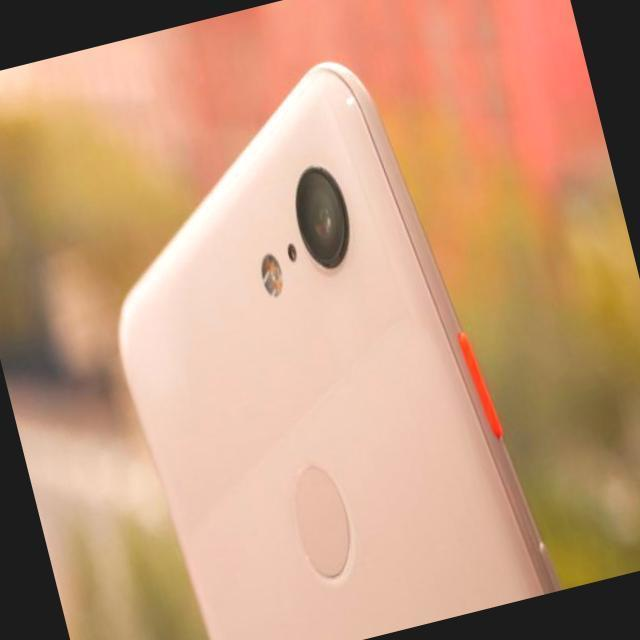lens: (286, 164, 360, 272)
phone: (113, 55, 554, 640)
